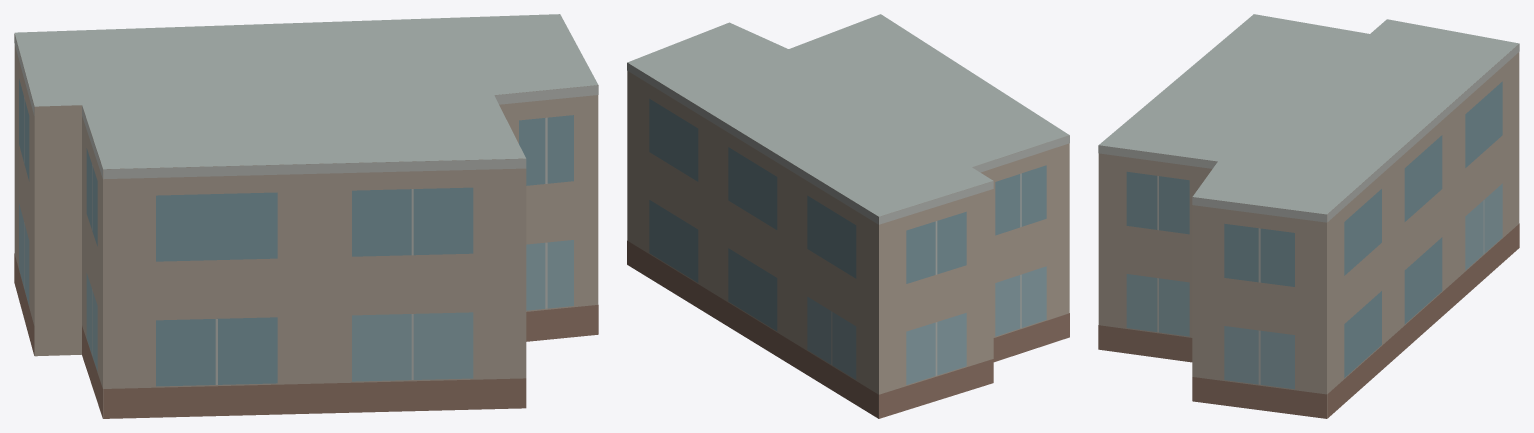
Rendered from survey-upis-32663358.glb.
3 views of the same model, side by side, from view 1: azimuth 30°, elevation 25°; view 2: azimuth 150°, elevation 25°; view 3: azimuth 270°, elevation 25° (orthographic). The views are drawn at different scales.
Parts seen in each view (by area): view 1: survey-upis-32663358.tmp; view 2: survey-upis-32663358.tmp; view 3: survey-upis-32663358.tmp.
Boxes of the visible parts, box(x1,y1,x2,y2) form: survey-upis-32663358.tmp: box(14, 14, 598, 418); survey-upis-32663358.tmp: box(627, 14, 1069, 418); survey-upis-32663358.tmp: box(1098, 14, 1519, 418).
Size of the model in its own units: 12.84 by 6.1 by 11.4.
